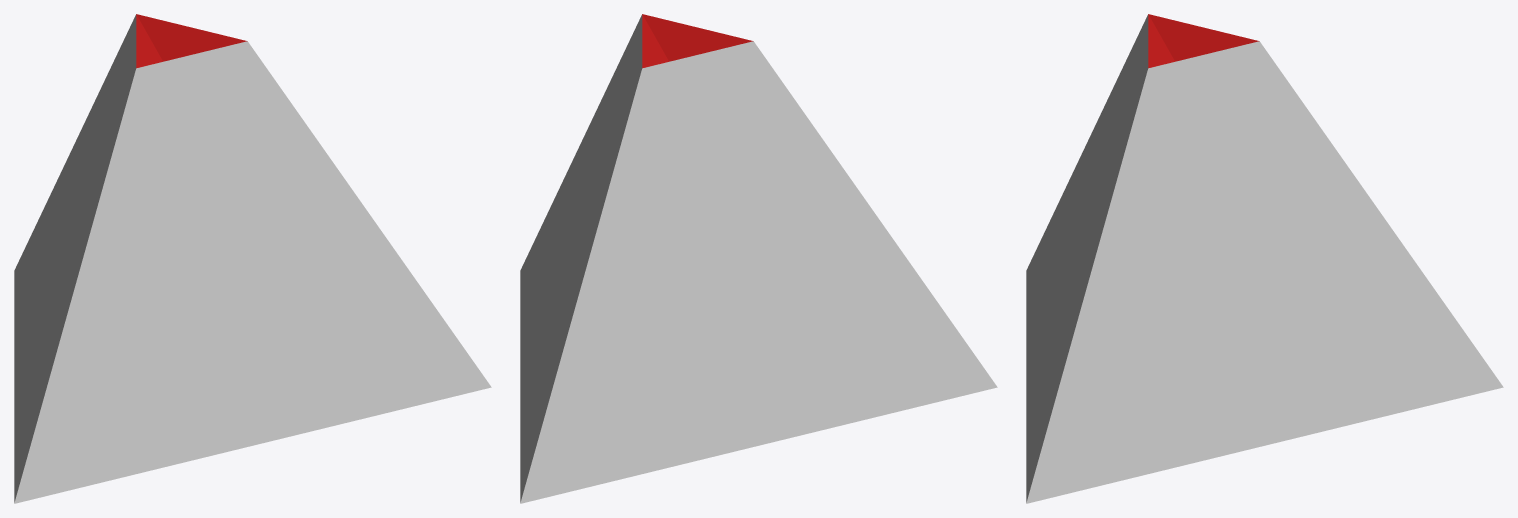
File: PyramidBase.fbx
3 views of the same model, side by side, from view 1: azimuth 30°, elevation 25°; view 2: azimuth 150°, elevation 25°; view 3: azimuth 270°, elevation 25° (orthographic).
Parts seen in each view (by area): view 1: Cone; view 2: Cone; view 3: Cone.
Part boxes in pixels (bbox=[...]): Cone: bbox=[14, 14, 491, 503]; Cone: bbox=[520, 14, 997, 503]; Cone: bbox=[1026, 14, 1503, 503].
Bounding box in the file's own units: 225 × 180 × 260.
